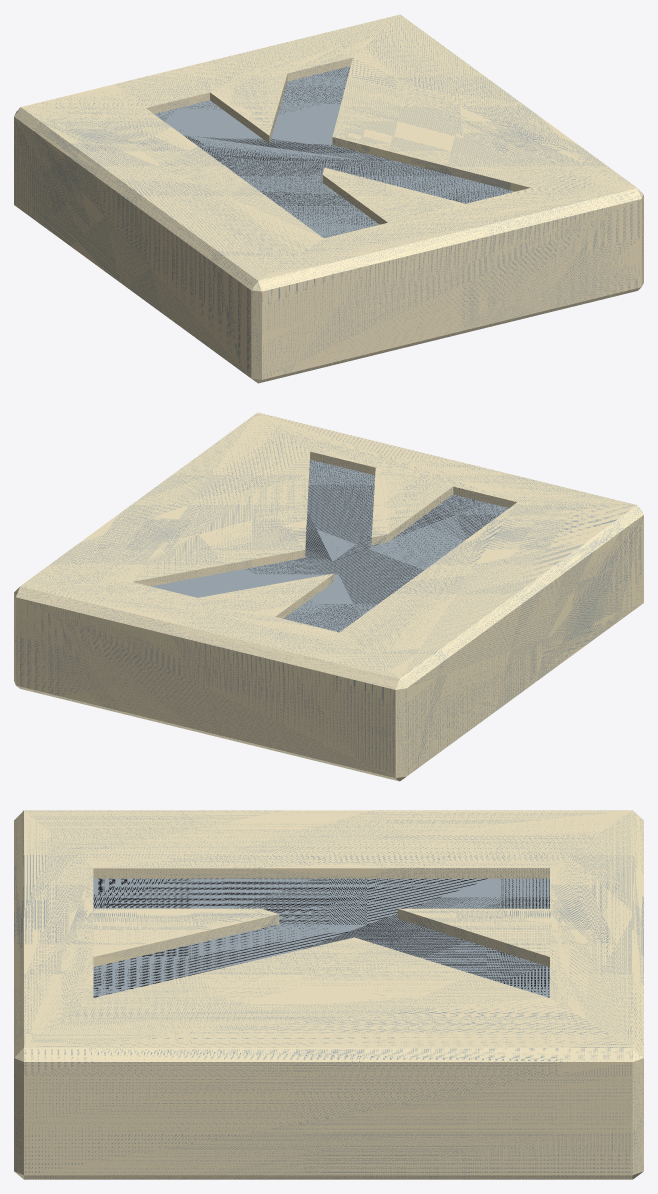
File: Boardgame_Anagram_Tile_K.fbx
3 renders of one model, top to bottom at view 1: azimuth 30°, elevation 25°; view 2: azimuth 150°, elevation 25°; view 3: azimuth 270°, elevation 25°, orthographic. The views are drawn at different scales.
Visible parts, largest first — view 1: Model; view 2: Model; view 3: Model.
Part boxes in pixels (box(x1,y1,x2,y2)): Model: box(14, 14, 643, 383); Model: box(14, 412, 643, 781); Model: box(14, 810, 643, 1179).
Size of the model in its own units: 195 by 48.83 by 212.
